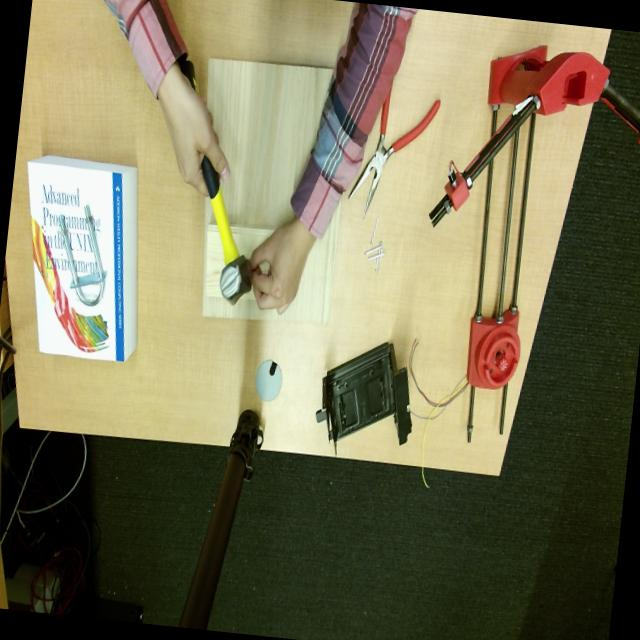hammer: (201, 156, 250, 304)
pliers: (350, 91, 439, 214)
